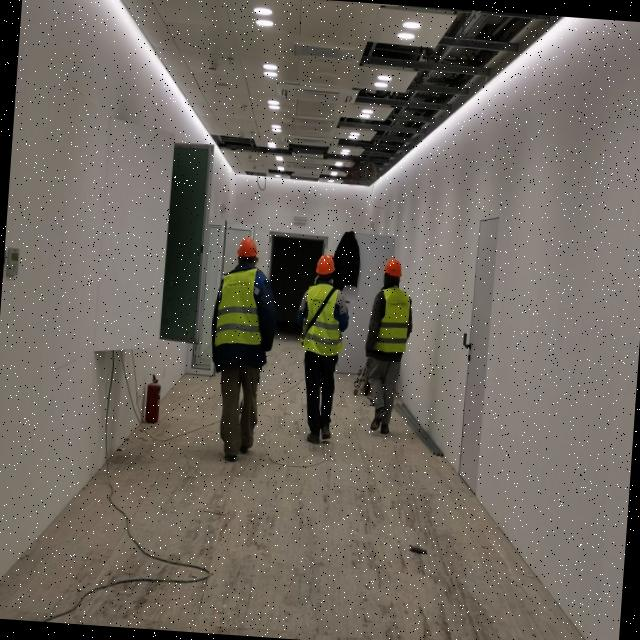Helmet: (317, 253, 337, 280), (237, 237, 259, 261), (383, 258, 403, 283)
Jacket: (218, 261, 266, 351), (302, 277, 345, 357), (373, 280, 412, 358)
